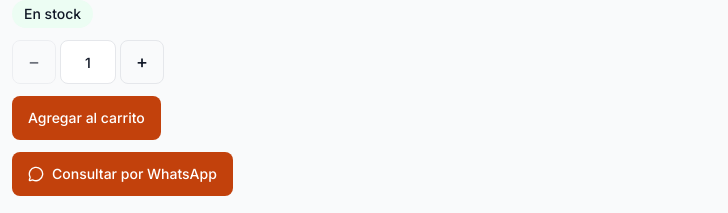
ProductPurchase — cantidad elegible antes de agregar (C2a, revierte OQ-FE-2) › tras agregar, el stepper vuelve a 1 (no queda una cantidad vieja seleccionada)
What coordinates should you click on to do the following:
click the button named "sumar una unidad de heladera exhibidora"
I would click on:
 (142, 62)
Its box is 120,40 -> 164,84.
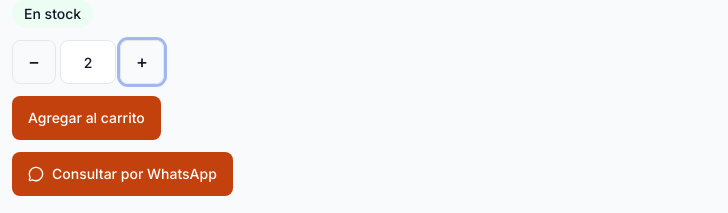
What coordinates should you click on to do the following:
click the button "Agregar al carrito"
I would click on:
 (86, 118)
Its box is 12,96 -> 161,140.
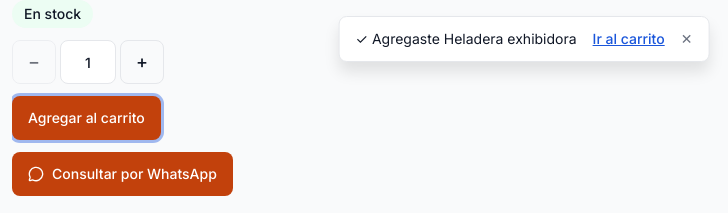
Check: the message "✓ Agregaste Heladera exhibidora Ir al carrito ✕" is shown, box 339,16 -> 709,62
Check: the number field named "cantidad de heladera exhibidora" holds "1", box 60,40 -> 116,84
